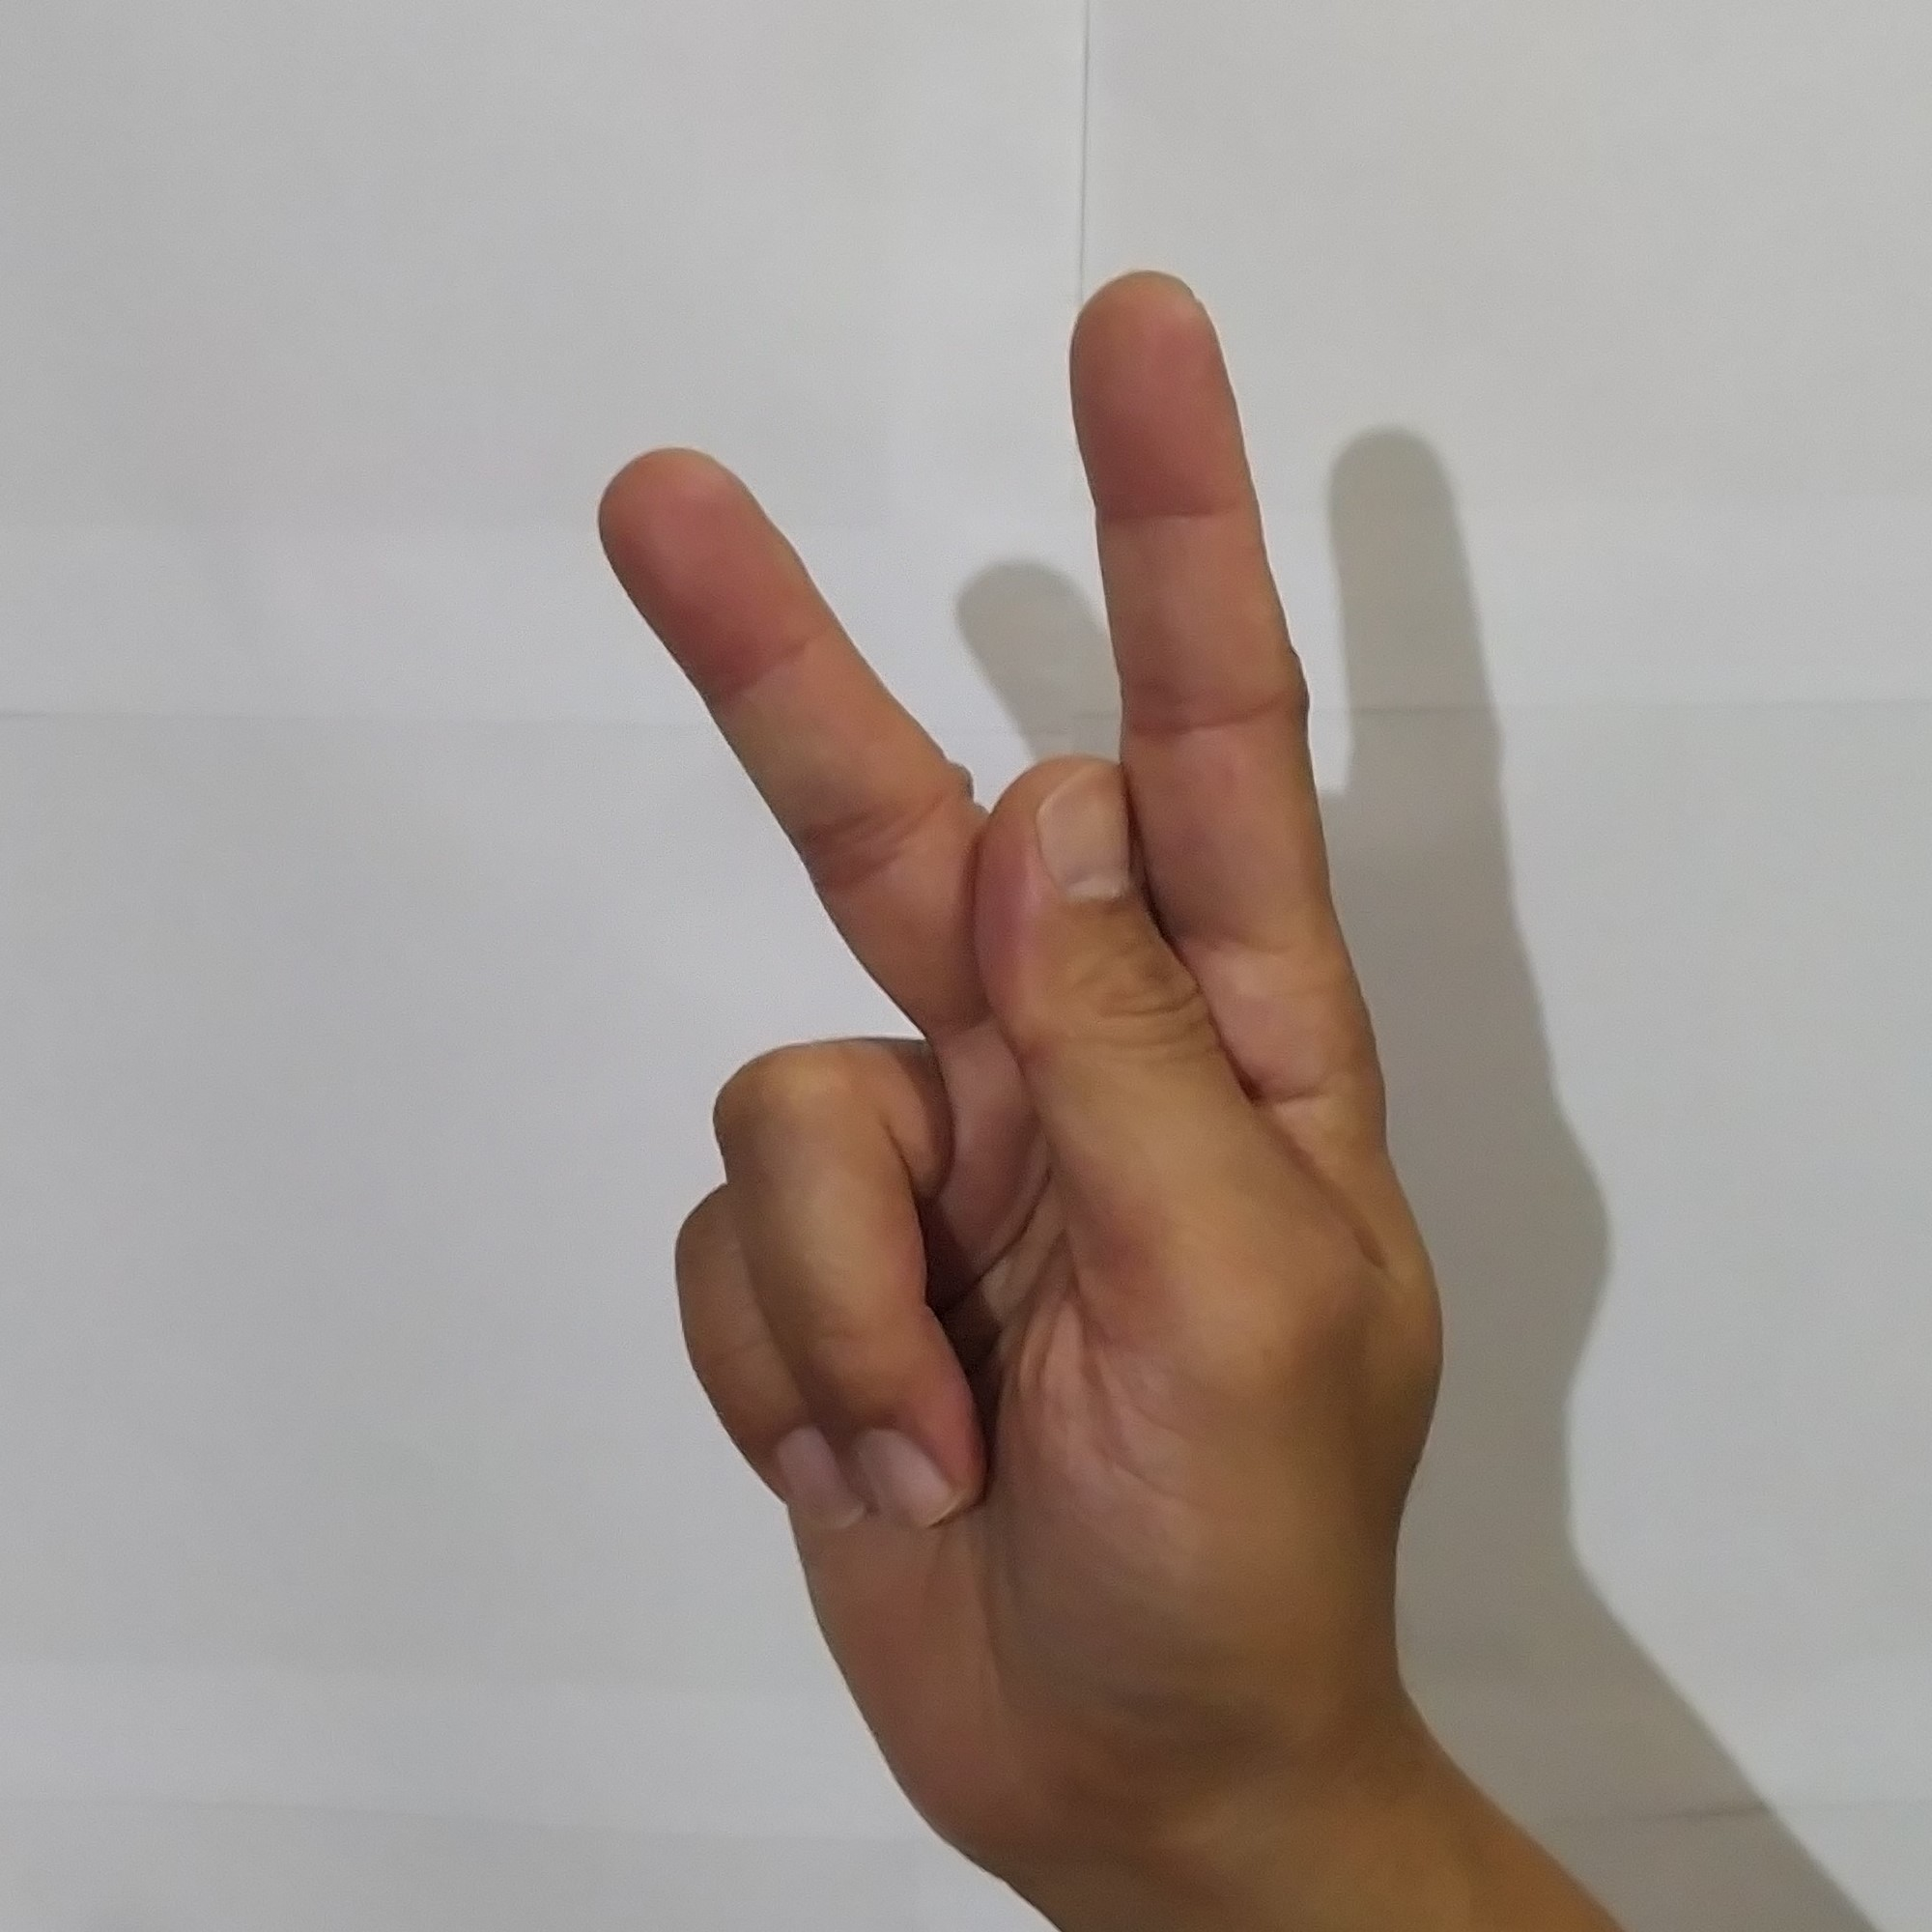K: (580, 237, 1474, 1794)
